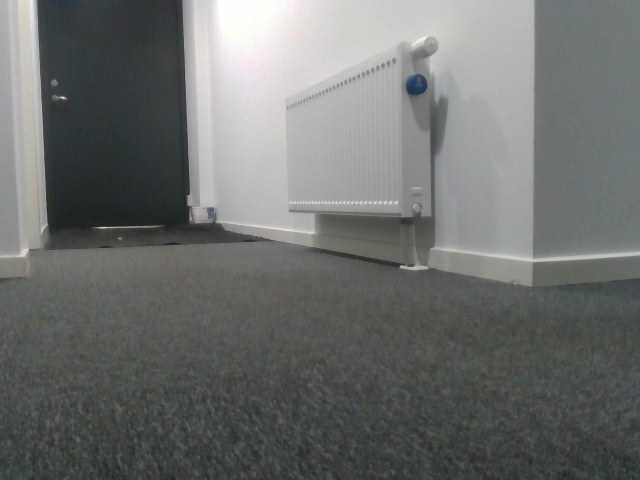alfa: (401, 69, 430, 100)
